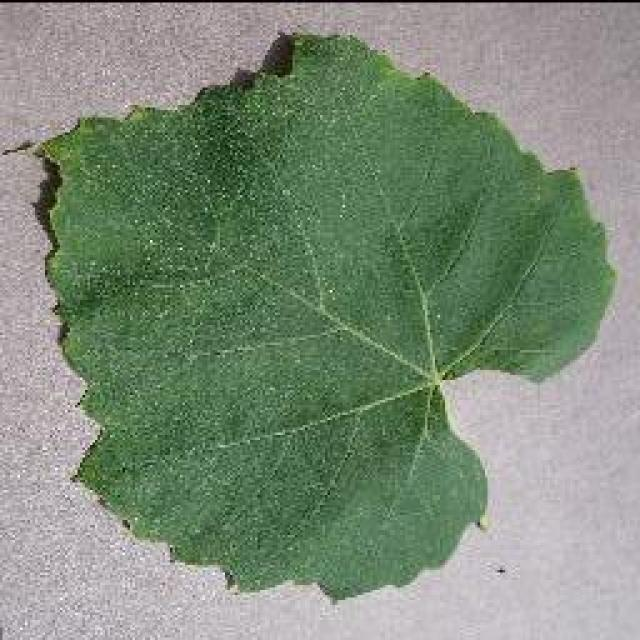Grape___healthy: (45, 35, 612, 598)
